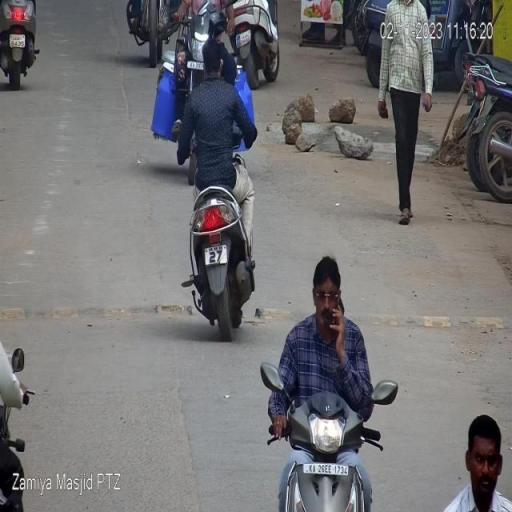using mobile: (314, 288, 352, 341)
